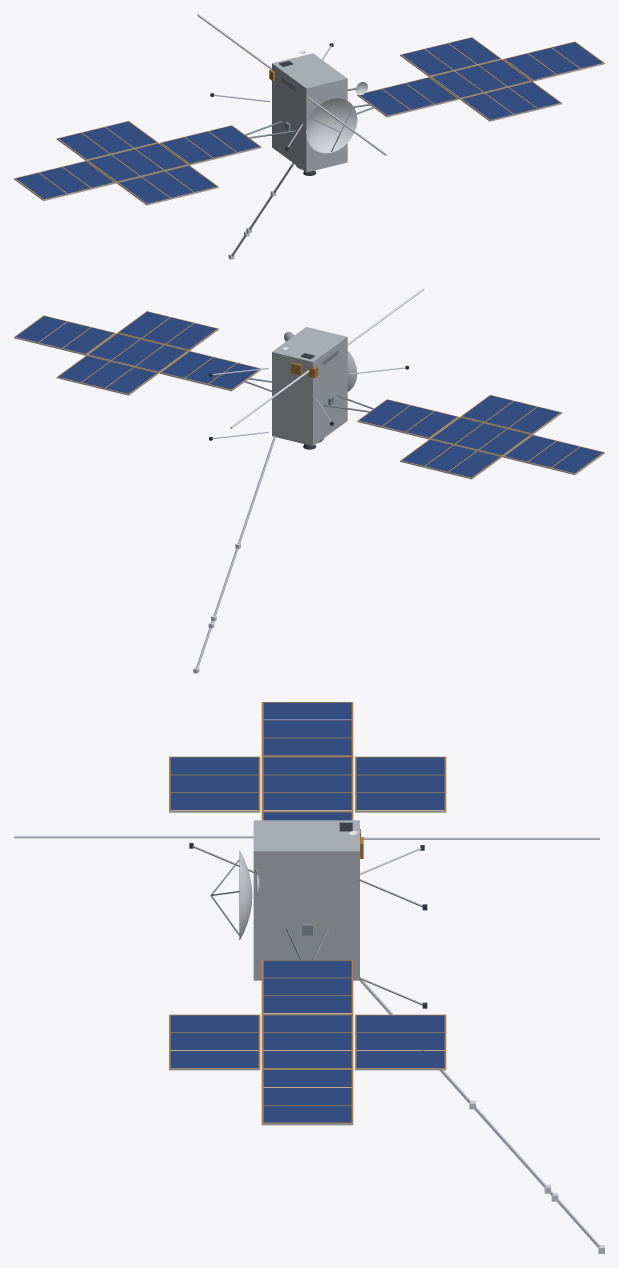
File: juice.glb
The picture shows the model from 3 angles, top to bottom: view 1: azimuth 30°, elevation 25°; view 2: azimuth 150°, elevation 25°; view 3: azimuth 270°, elevation 25°; orthographic projection. The views are drawn at different scales.
Parts seen in each view (by area): view 1: solar-panel, body, foil; view 2: solar-panel, foil, body; view 3: solar-panel, foil, body.
Boxes of the visible parts, box(x1,y1,x2,y2) form: solar-panel: box(16, 38, 602, 203); body: box(14, 14, 604, 259); foil: box(269, 53, 347, 172); solar-panel: box(16, 311, 602, 477); foil: box(272, 327, 347, 445); body: box(14, 288, 604, 673); solar-panel: box(170, 702, 444, 1122); foil: box(253, 820, 363, 980); body: box(14, 702, 604, 1253).
Bounding box in the file's own units: 27.24 × 12.41 × 16.14.
